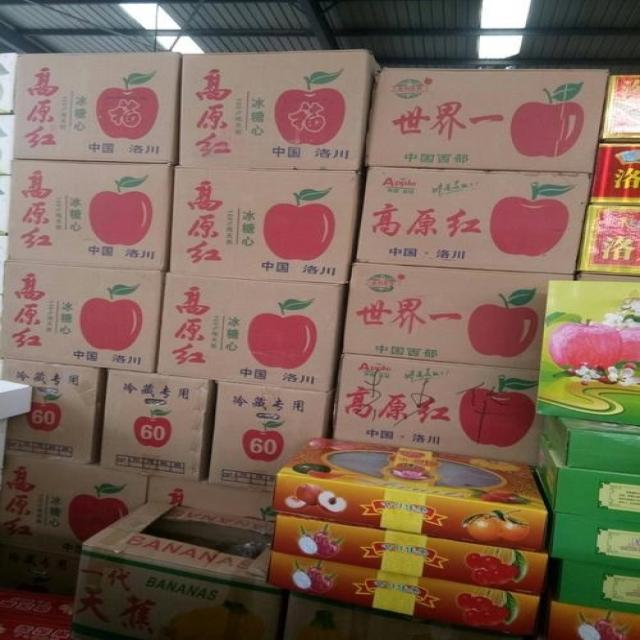box: (269, 440, 550, 552), (72, 503, 290, 639), (355, 168, 594, 275), (371, 68, 611, 174), (180, 51, 383, 171), (264, 550, 541, 637), (343, 265, 573, 369), (0, 447, 152, 601), (332, 356, 546, 465), (169, 166, 365, 284), (156, 274, 349, 392), (270, 516, 551, 595), (11, 53, 182, 163), (1, 261, 165, 375), (8, 164, 174, 271), (530, 272, 639, 426), (203, 381, 334, 490), (97, 370, 217, 479), (0, 358, 103, 462), (287, 595, 515, 639), (530, 443, 639, 524), (149, 476, 280, 532), (542, 415, 639, 474), (546, 556, 639, 614), (547, 511, 639, 569), (576, 205, 639, 275), (541, 601, 639, 639), (594, 144, 639, 203), (603, 76, 639, 144)
